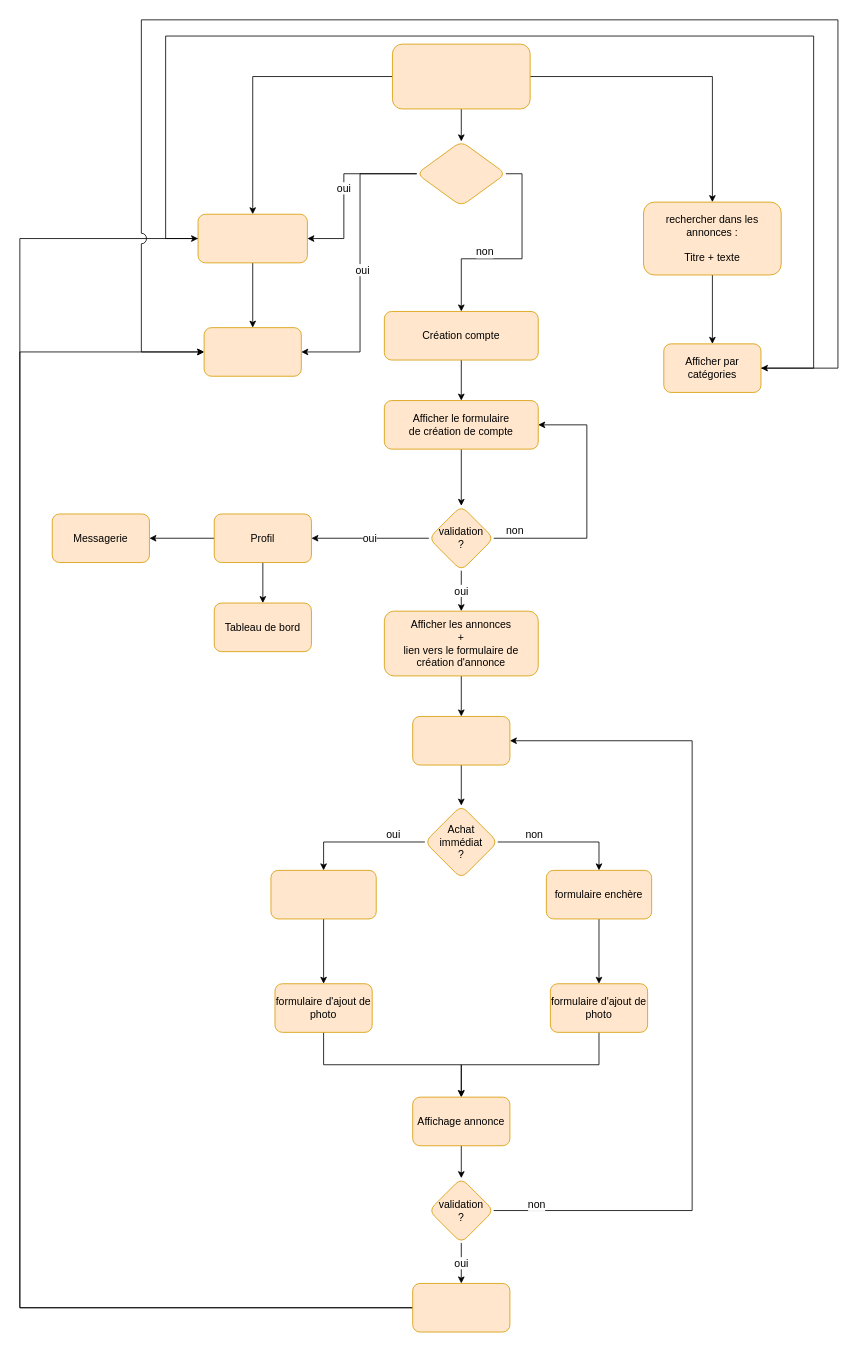
This 859x1346 diagram has some shape labels left out. The centre of each missing label's shape, as x and y in pixels:
"Achat immédiat" goes at (x=252, y=351).
"Afficher les annonces" goes at (x=461, y=76).
"afficher les annonces actualisées" goes at (x=461, y=1307).
"CONNEXION ?" goes at (x=461, y=173).
"Enchérir" goes at (x=252, y=238).
"formulaire d'annonce" goes at (x=461, y=740).
"formulaire vente directe" goes at (x=323, y=894).
